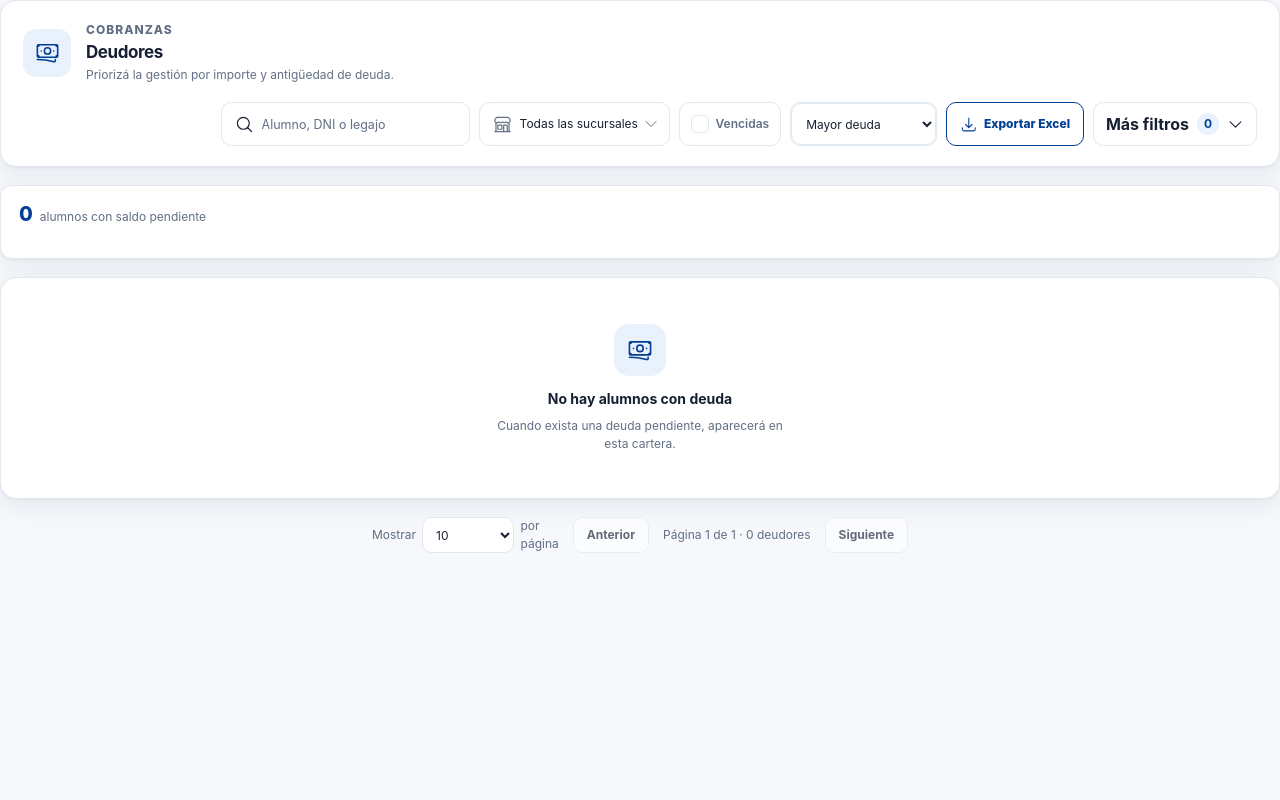
Test: estados vacíos de Deudores › agrupa los filtros avanzados e indica cuántos están activos
This screenshot has width=1280, height=800.
Click the button with class "debtors-more-filters".
click(1175, 124)  # box [1093,102,1257,146]
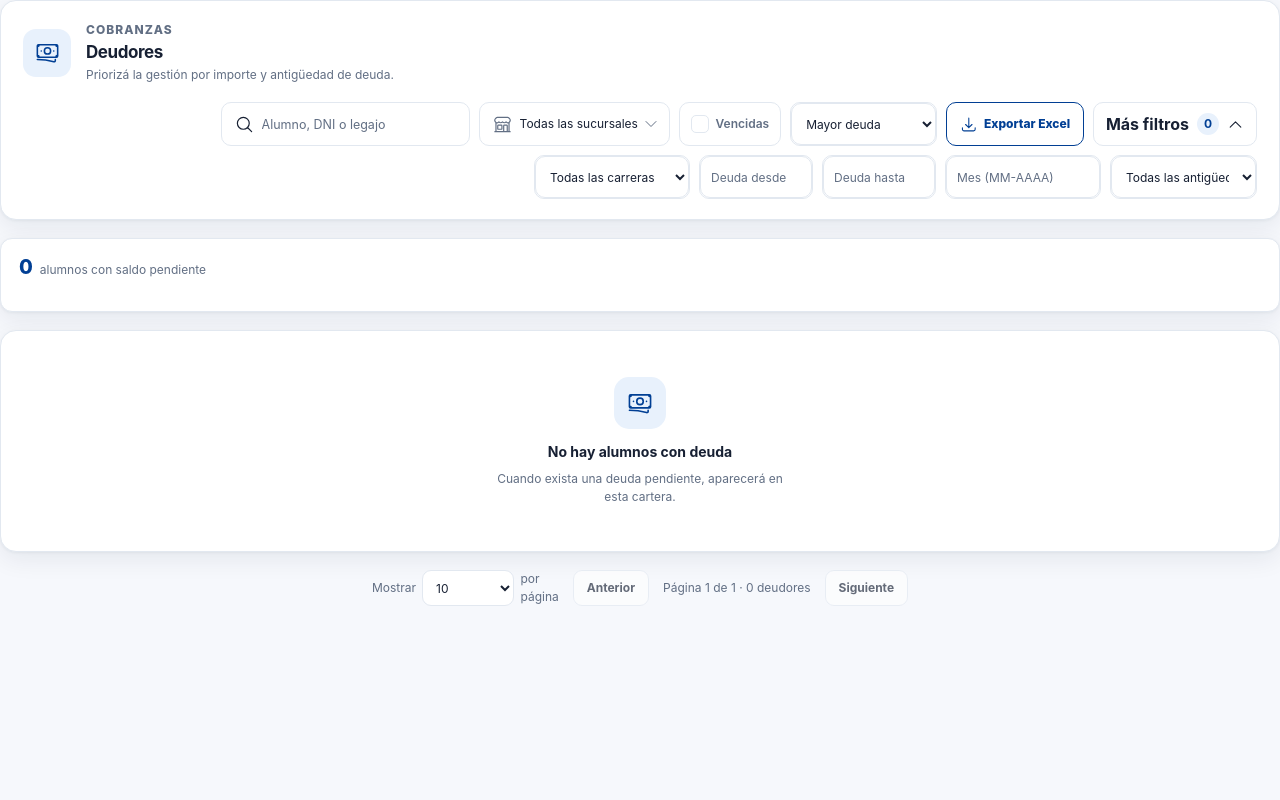
expect the button with class "debtors-more-filters" is expanded: met, box [1093,102,1257,146]
expect the dropdown named "Filtrar por carrera" is shown: met, box [535,156,689,198]
Type "1000" into the number field named "Deuda desde".
click(756, 177); type("1000")  # box [700,156,812,198]
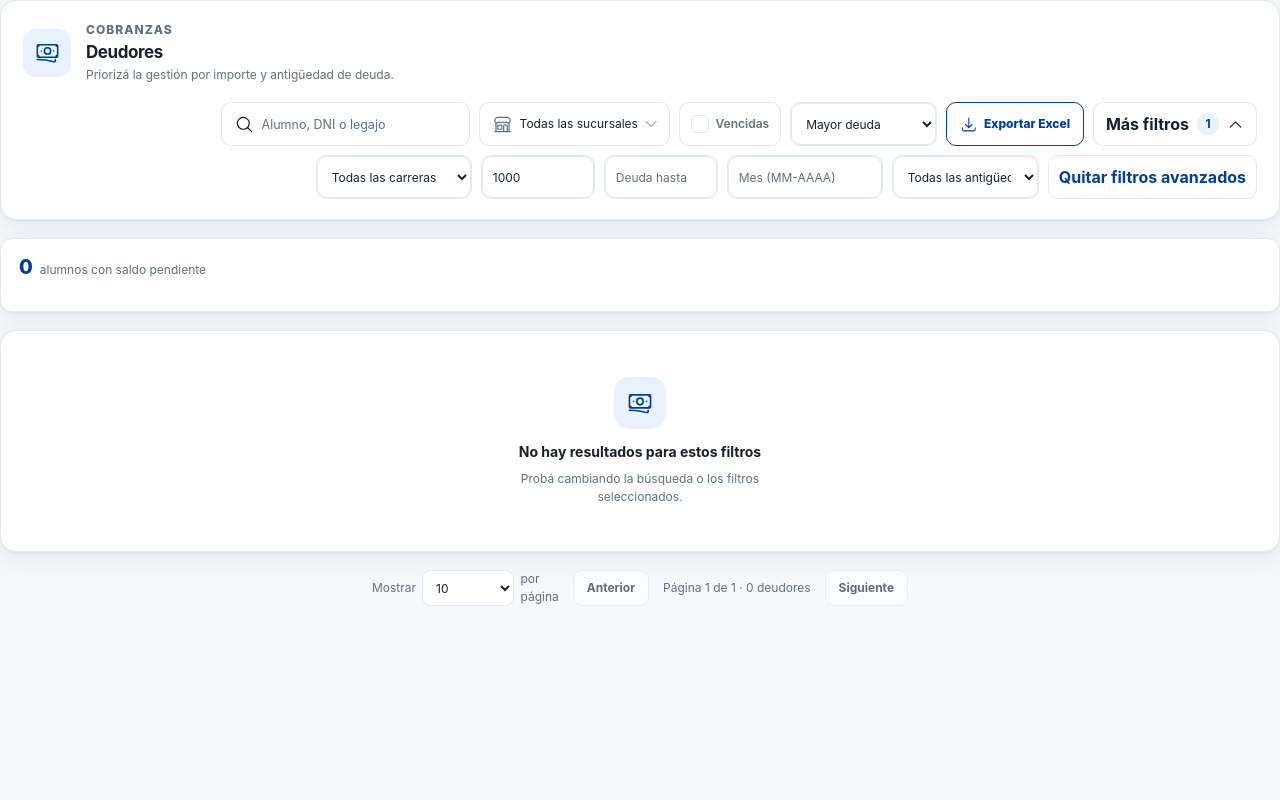
Type "09-2026" into the field named "Mes correspondiente".
click(805, 177); type("09-2026")  # box [728,156,882,198]
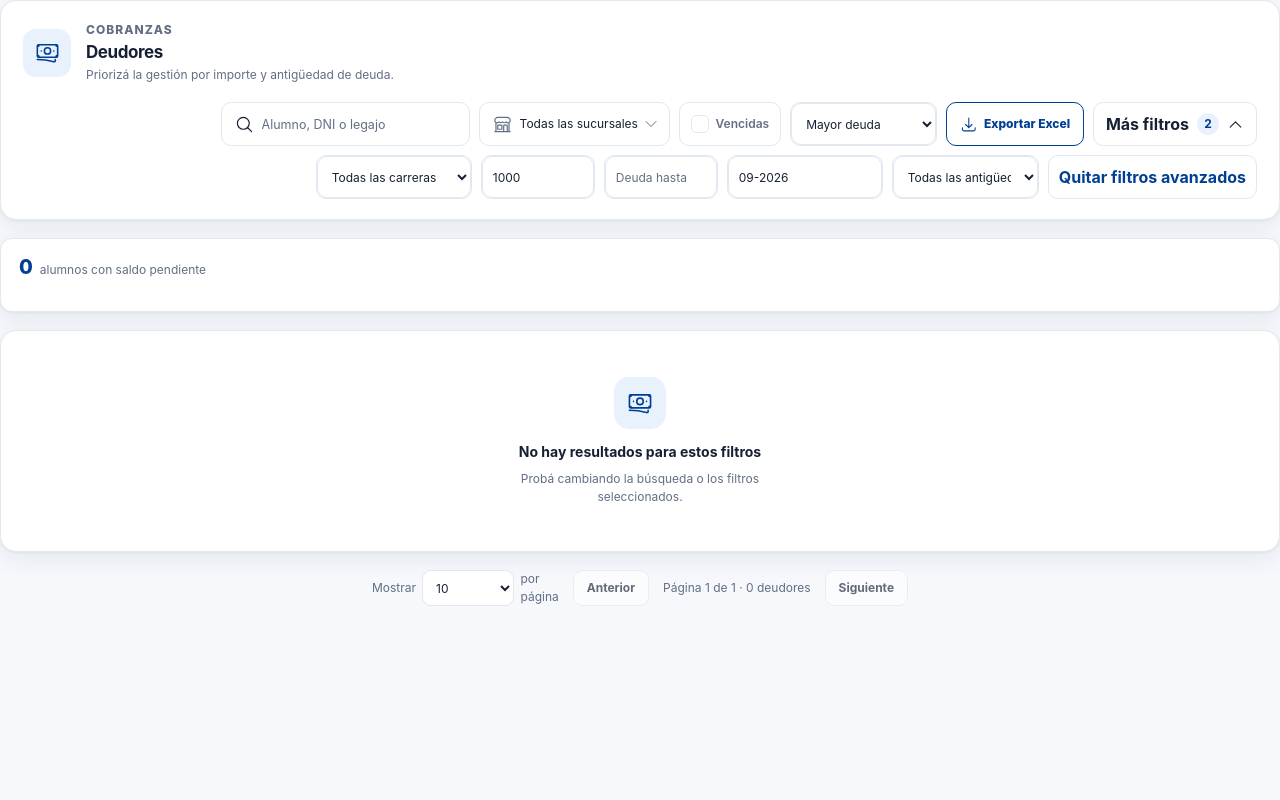
expect the button with class "debtors-more-filters" shows "2": met, box [1093,102,1257,146]
Click the button with class "debtors-clear-advanced".
click(1152, 177)  # box [1048,155,1257,199]
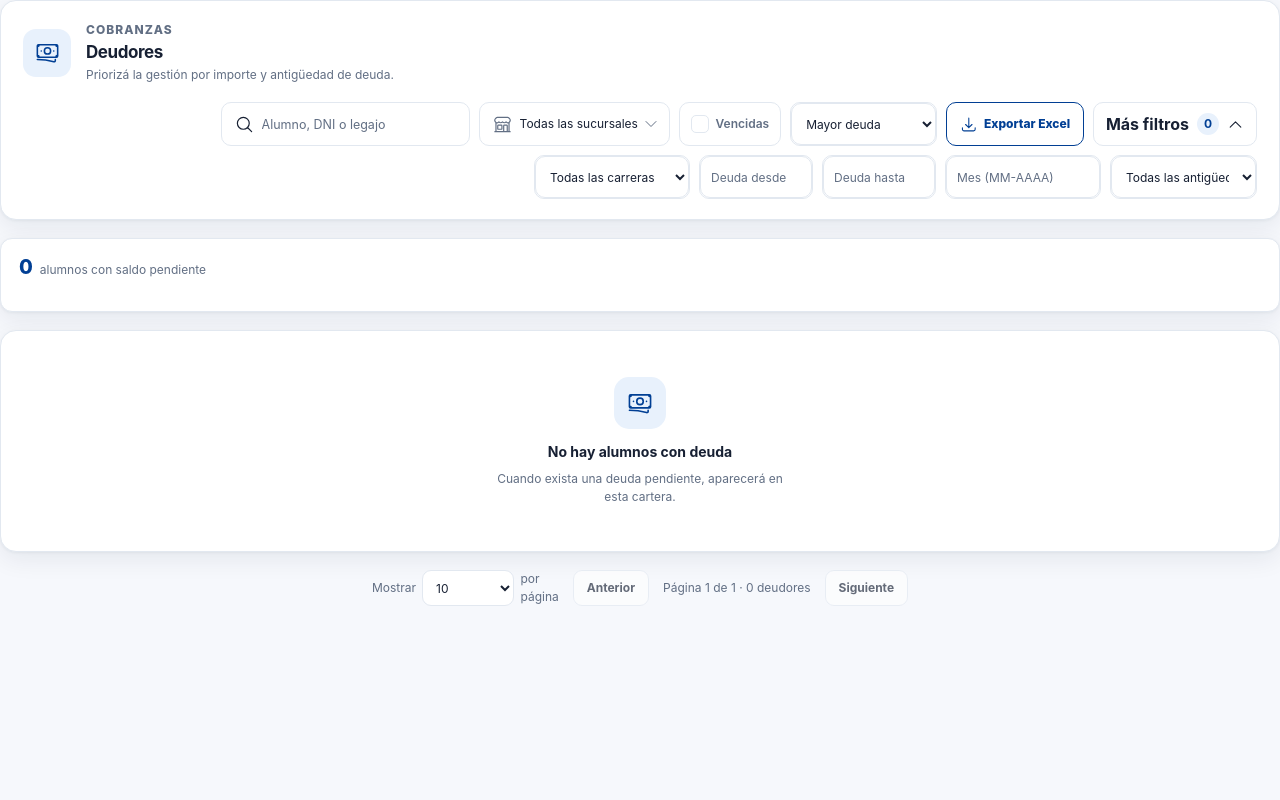
expect the number field named "Deuda desde" is empty: met, box [700,156,812,198]
expect the field named "Mes correspondiente" is empty: met, box [946,156,1100,198]
expect the button with class "debtors-more-filters" shows "0": met, box [1093,102,1257,146]
